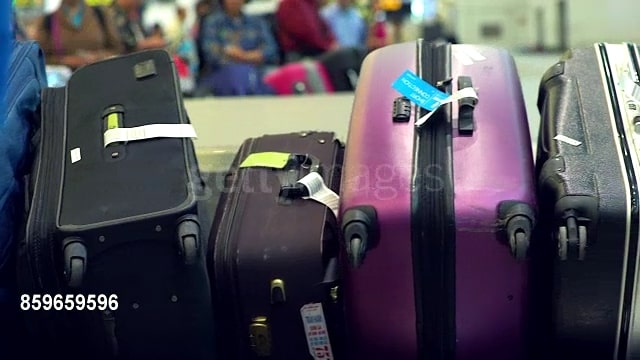baggage: (337, 39, 536, 360), (28, 51, 213, 360), (533, 37, 640, 360), (208, 133, 356, 360)
